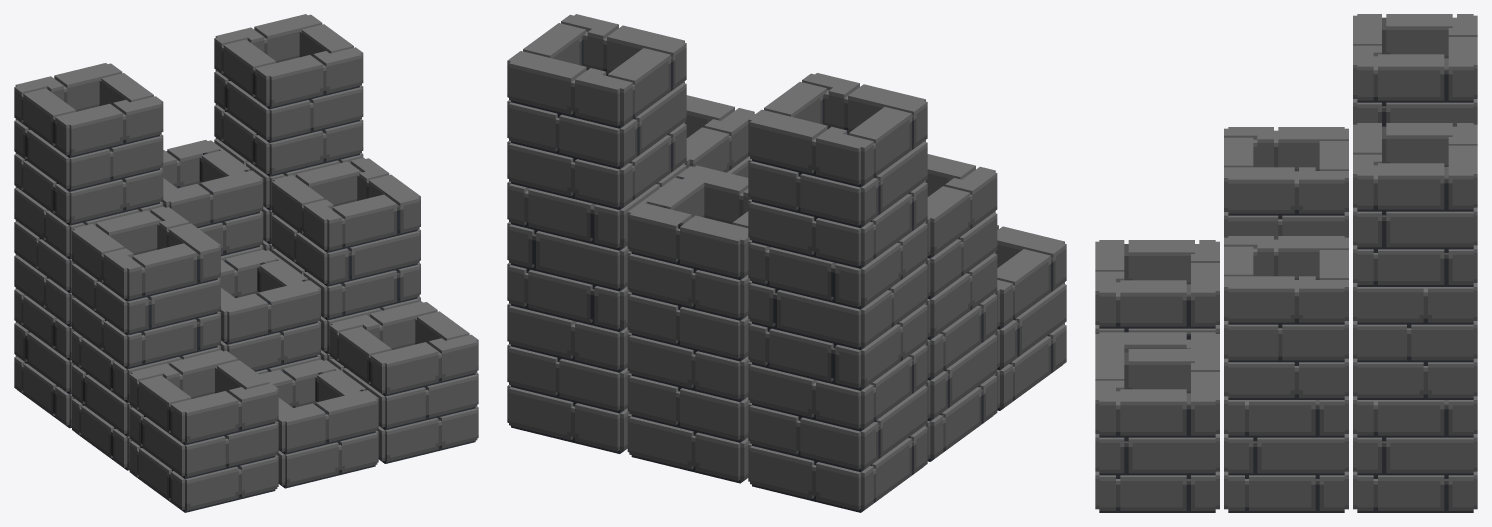
The model's file is Tilemap_Deco_C0_P006.obj.
The picture shows the model from 3 angles, left to right: view 1: azimuth 30°, elevation 25°; view 2: azimuth 150°, elevation 25°; view 3: azimuth 270°, elevation 25°; orthographic projection. The views are drawn at different scales.
Bounding box in the file's own units: 9.2 × 9 × 9.2.
Materials: 1 (1 with a texture image).
